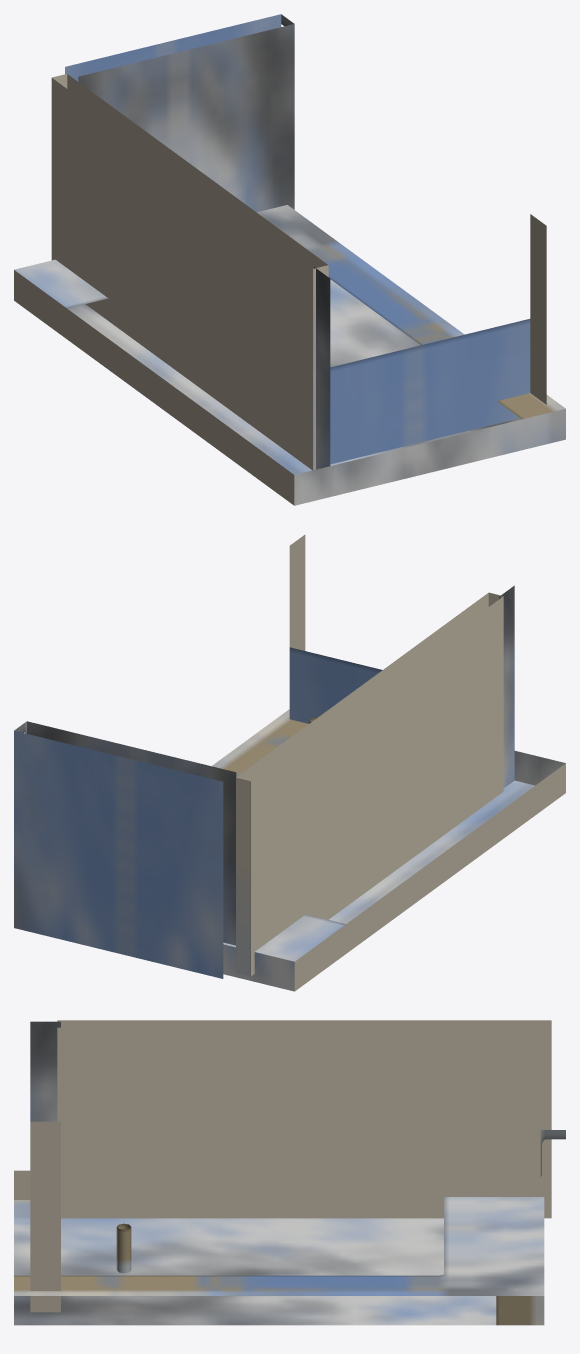
Rendered from section-2.obj.
The picture shows the model from 3 angles, top to bottom: view 1: azimuth 30°, elevation 25°; view 2: azimuth 150°, elevation 25°; view 3: azimuth 270°, elevation 25°; orthographic projection. The views are drawn at different scales.
Size of the model in its own units: 0.8435 by 0.694 by 1.53.
